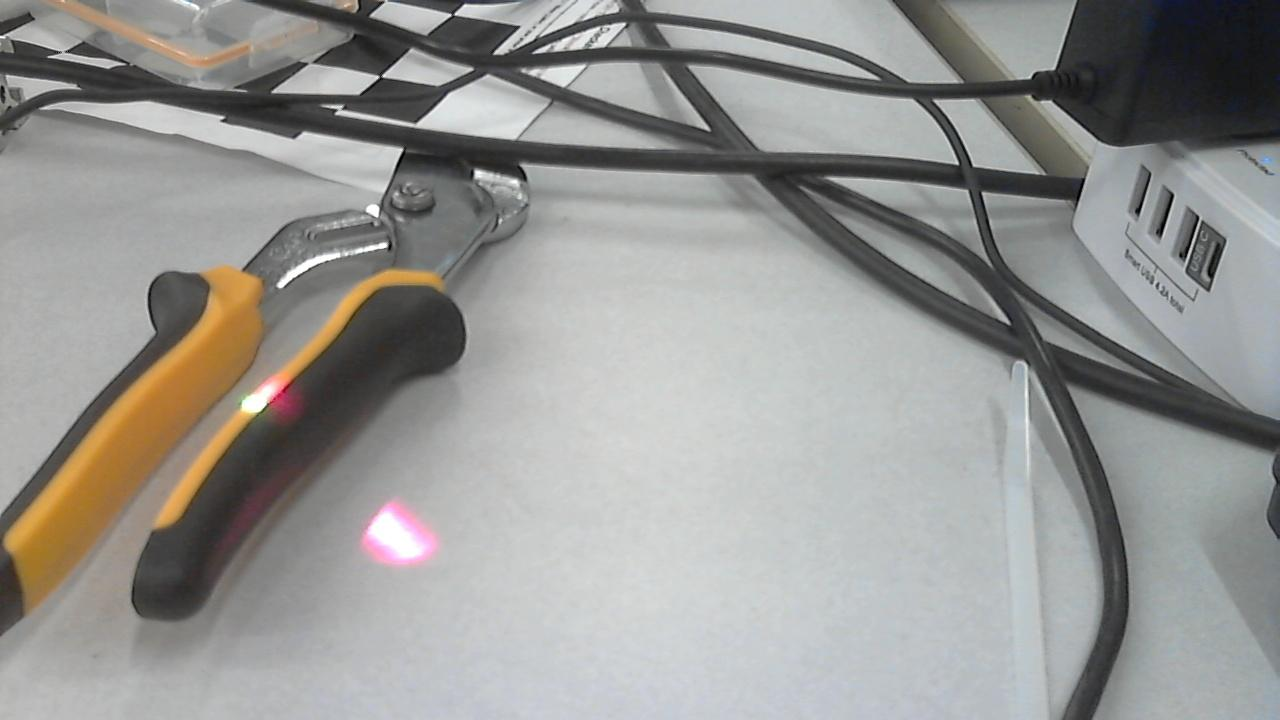Object slip joint pliers - Material plastic - Color yellow - Pdfname favaeaevcsr: (242, 361, 314, 426)
